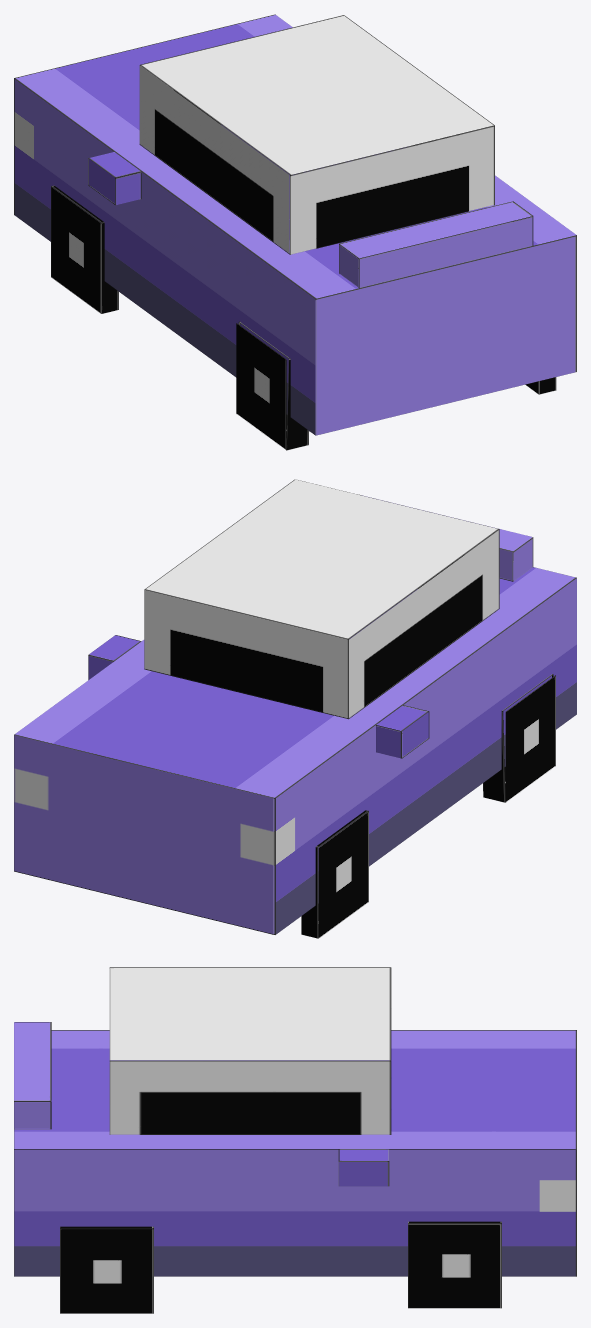
File: Car.obj
The picture shows the model from 3 angles, top to bottom: view 1: azimuth 30°, elevation 25°; view 2: azimuth 150°, elevation 25°; view 3: azimuth 270°, elevation 25°; orthographic projection. The views are drawn at different scales.
Visible parts, largest first — view 1: Car.001_Plane.009; view 2: Car.001_Plane.009; view 3: Car.001_Plane.009.
Part boxes in pixels (bbox=[...]): Car.001_Plane.009: bbox=[14, 14, 576, 450]; Car.001_Plane.009: bbox=[14, 479, 576, 938]; Car.001_Plane.009: bbox=[14, 967, 576, 1313].
Bounding box in the file's own units: 3.6 × 2.79 × 6.
Materials: 1 (1 with a texture image).
